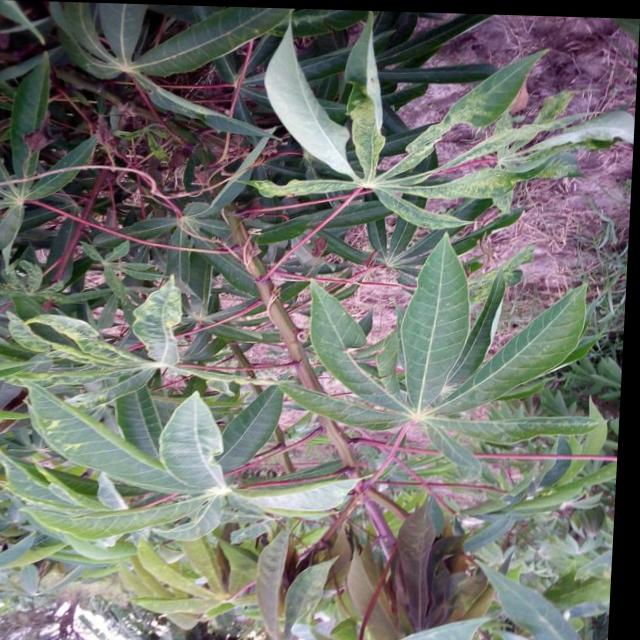Mosaico: (346, 81, 584, 211), (21, 318, 192, 408), (130, 535, 256, 621), (396, 501, 463, 640)
